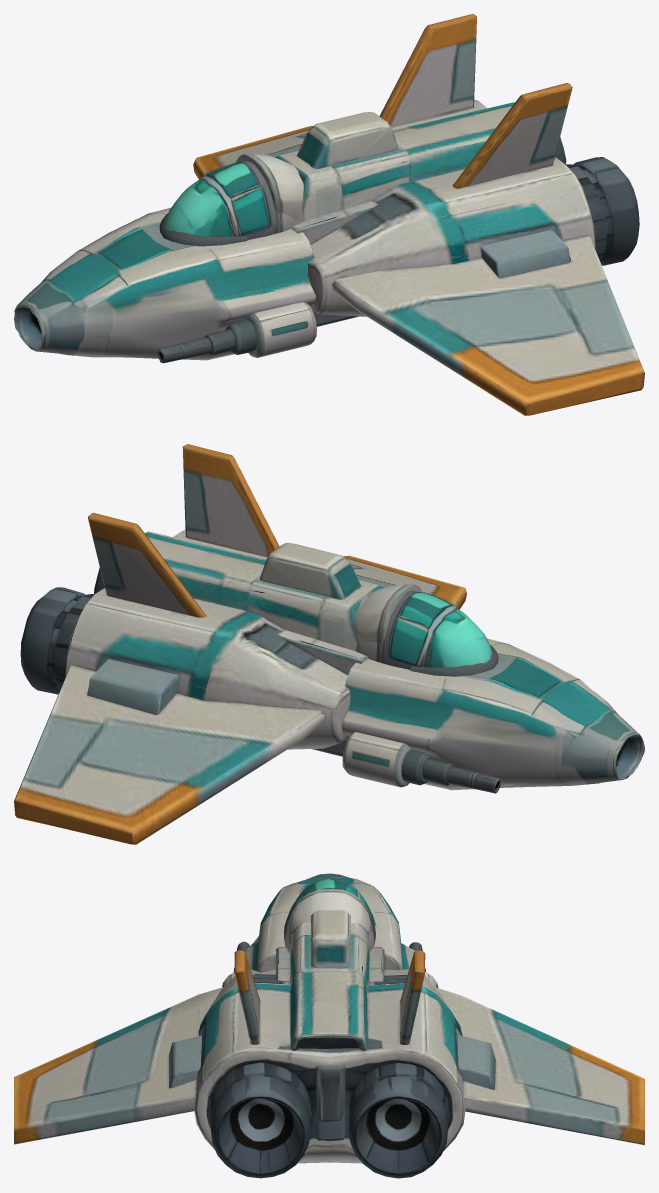
File: player.glb
The picture shows the model from 3 angles, top to bottom: view 1: azimuth 30°, elevation 25°; view 2: azimuth 150°, elevation 25°; view 3: azimuth 270°, elevation 25°; orthographic projection. The views are drawn at different scales.
Parts seen in each view (by area): view 1: geometry_0; view 2: geometry_0; view 3: geometry_0.
Part boxes in pixels (<box>): geometry_0: <box>14,14,644,415</box>; geometry_0: <box>14,444,644,844</box>; geometry_0: <box>14,873,644,1178</box>.
Size of the model in its own units: 0.9581 by 0.3505 by 1.
Materials: 1 (1 with a texture image).
